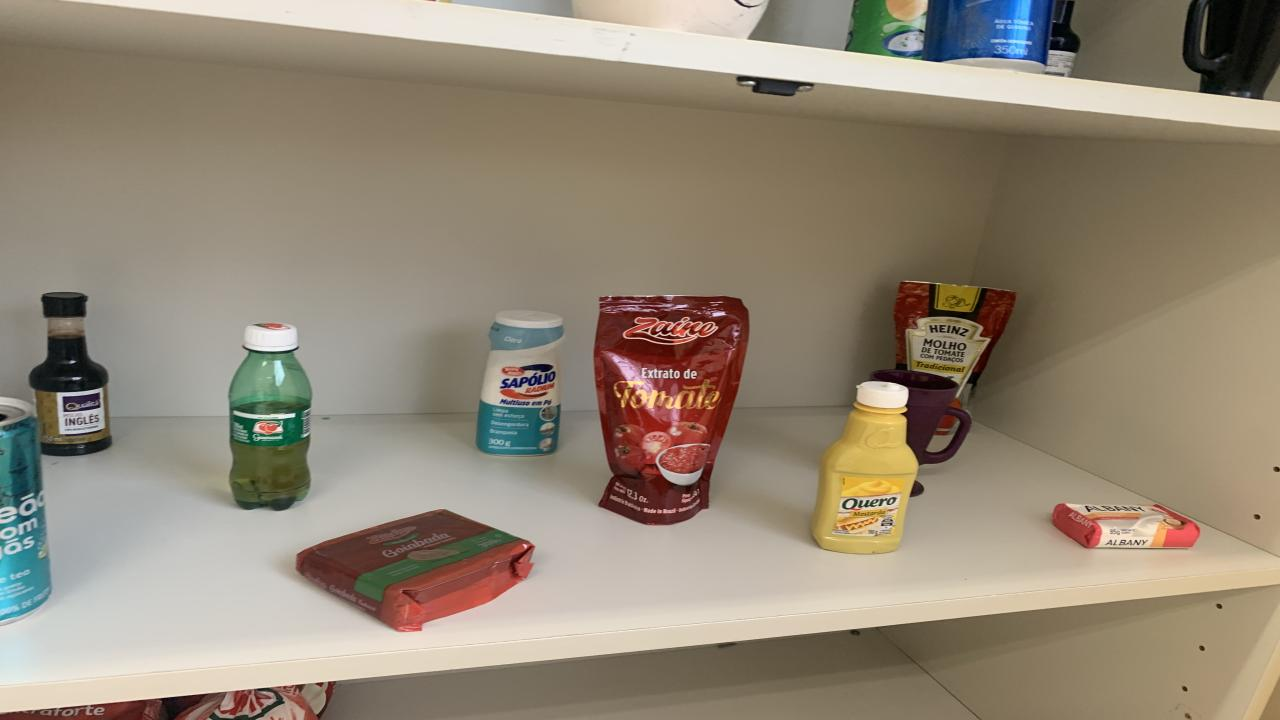Cleaner-Cleanup_Items: (475, 309, 565, 456)
English_Sauce-Pantry_Items: (30, 292, 112, 456), (1045, 0, 1080, 77)
Guarana-Drinks: (228, 324, 312, 510)
Guava-Snacks: (298, 510, 535, 632)
Mustard-Pantry_Items: (812, 381, 918, 553)
Pig_Safe-Miscellaneous: (572, 0, 768, 39)
Pringles-Snacks: (845, 0, 928, 58)
Soap-Cleanup_Items: (1052, 502, 1200, 548)
Tea-Drinks: (0, 398, 52, 624)
Tomato_Sauce-Pantry_Items: (595, 296, 750, 525), (892, 281, 1015, 401)
Tonic-Drinks: (922, 0, 1052, 73)
